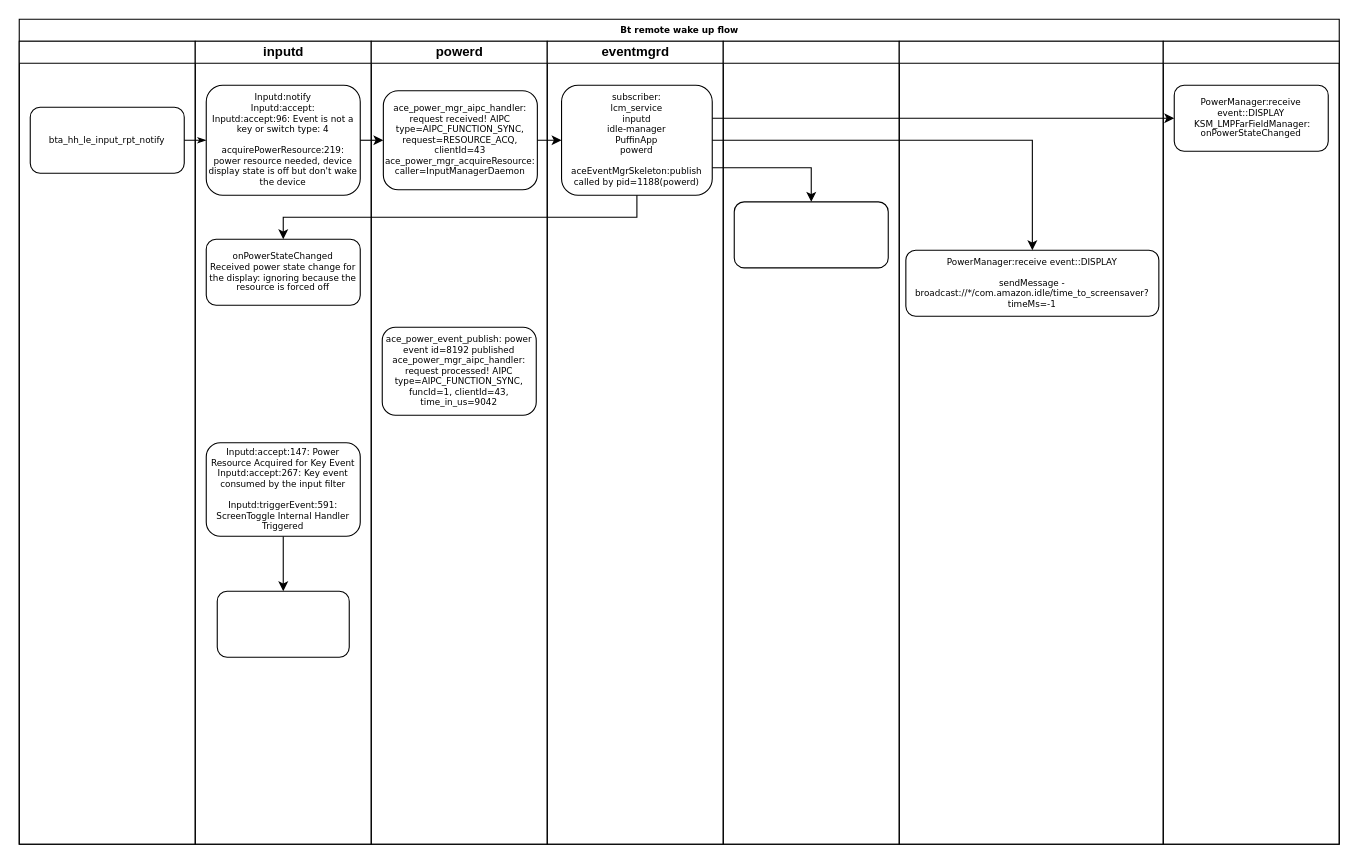
Image size: 1359x864. Some labels were removed from this diagram. Each missing label, with the box of its shape:
api:PowerManager:receive event::DISPLAY, LEVEL = 3, Notifier = 3: (733, 201, 888, 268)
api:PowerManagerExt: unforceDisplayOff be called: (216, 590, 349, 657)
btmanagerd: (18, 40, 195, 844)
idle-manager: (898, 40, 1163, 844)
lcm_service: (722, 40, 899, 844)
PuffinApp: (1162, 40, 1339, 844)
